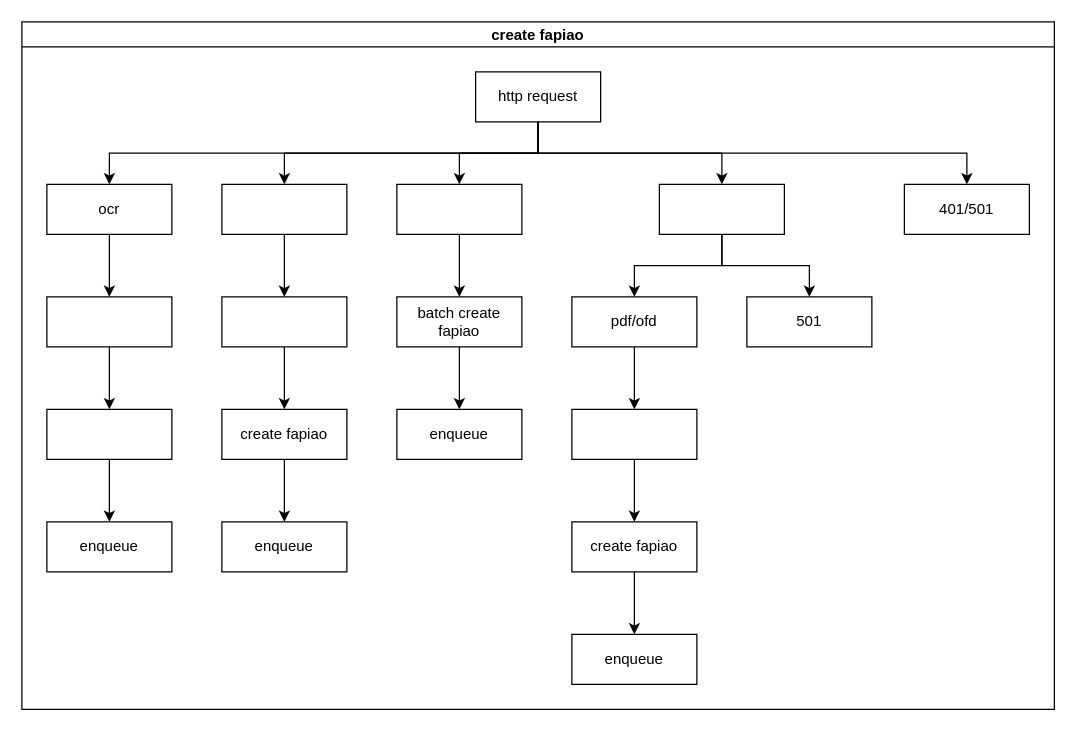
Image size: 1076x731. Some labels were removed from this diagram. The shapes that lost their labels are listed below. From the top down, each one's centre as x and y in pixels, then its label:
At pixel 284 208: "qrcode".
At pixel 459 208: "wechat".
At pixel 721 208: "file".
At pixel 109 321: "image upload s3".
At pixel 284 321: "parse qrcode info".
At pixel 109 433: "create fapiao group".
At pixel 634 433: "upload s3".
